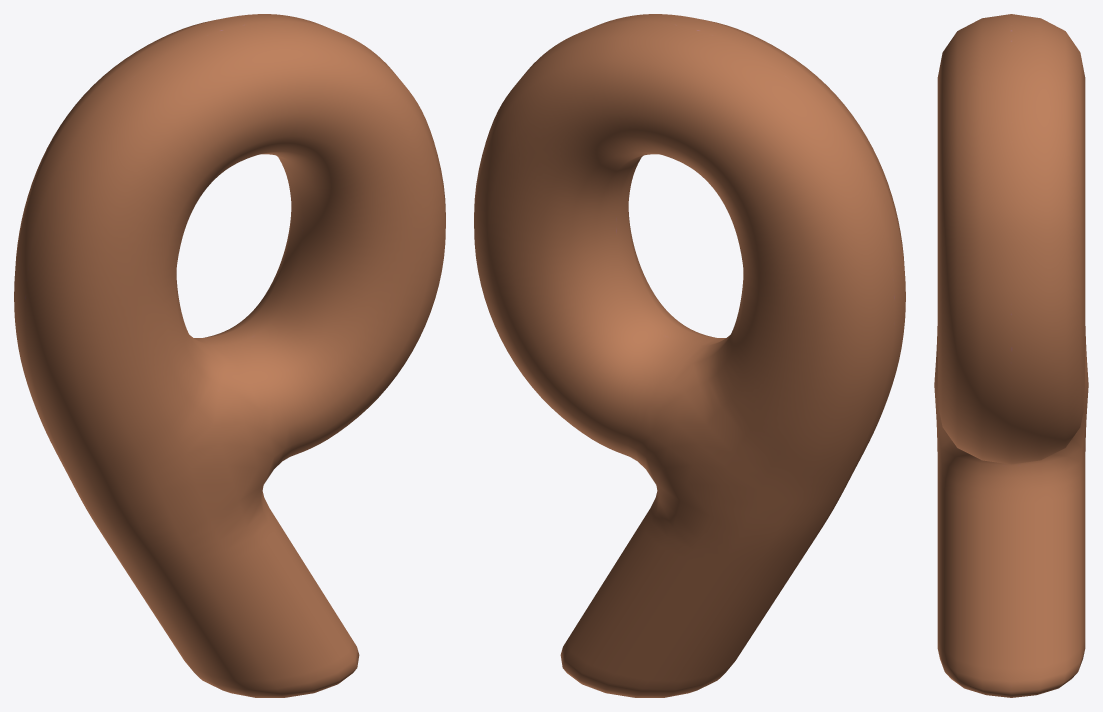
The model's file is numero-9.glb.
The picture shows the model from 3 angles, left to right: view 1: azimuth 30°, elevation 25°; view 2: azimuth 150°, elevation 25°; view 3: azimuth 270°, elevation 25°; orthographic projection. The views are drawn at different scales.
Visible parts, largest first — view 1: node_id30; view 2: node_id30; view 3: node_id30.
Boxes of the visible parts, box(x1,y1,x2,y2) form: node_id30: box(14, 14, 445, 697); node_id30: box(474, 14, 905, 697); node_id30: box(934, 14, 1088, 697).
Bounding box in the file's own units: 0.3314 × 0.512 × 0.1155.
1 material, 1 textured.
